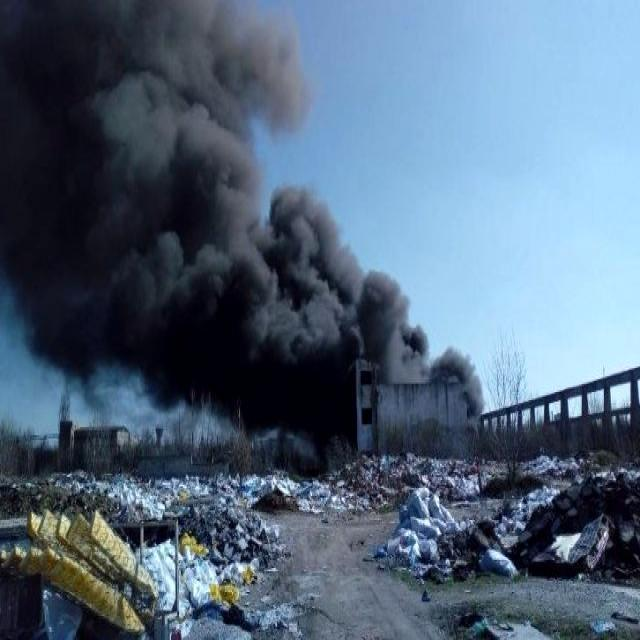Smoke: (0, 0, 478, 468)
